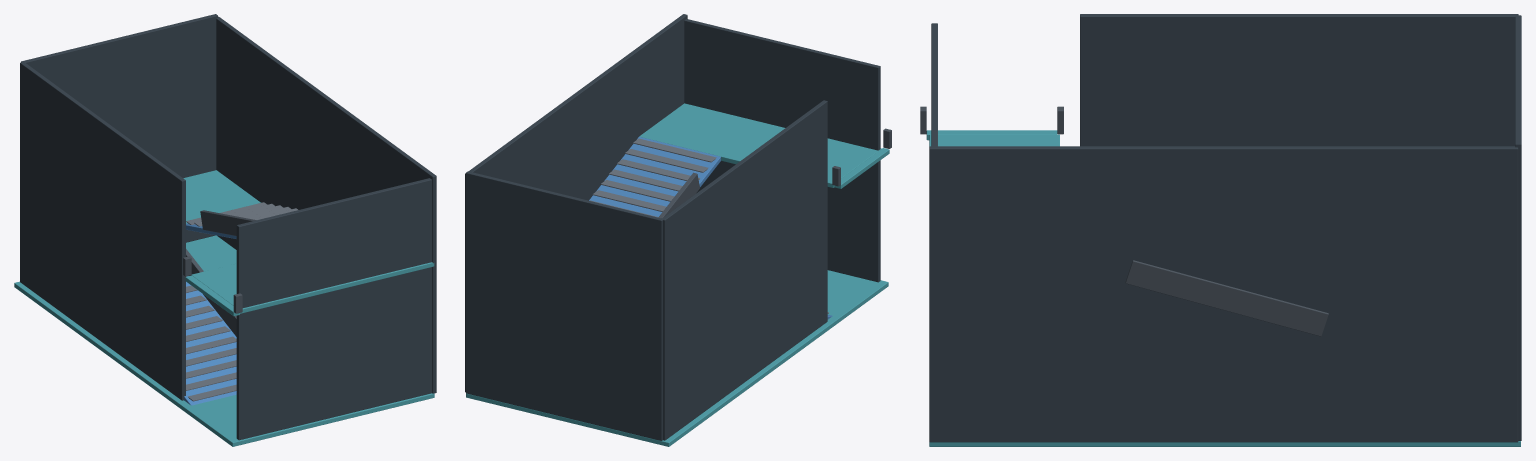
The model's file is env_tower_stairwell_rooftop_9m_top3d_v001.glb.
3 renders of one model, left to right at view 1: azimuth 30°, elevation 25°; view 2: azimuth 150°, elevation 25°; view 3: azimuth 270°, elevation 25°, orthographic. The views are drawn at different scales.
Visible parts, largest first — view 1: Stair_Special_Rooftop_EnclosureWall_DoorSide, Stair_Special_Rooftop_EnclosureWall_Inner, Stair_Special_Rooftop_EnclosureWall_Outer, Stair_Special_Rooftop_EnclosureWall_Far, Stair_Special_Rooftop_LowerDoorLanding_Walkable, Stair_Special_Rooftop_LowerFlight_Walkable, Stair_Special_Rooftop_TurnLanding_Walkable, Stair_Special_Rooftop_UpperDoorLanding_Walkable, Stair_Special_Rooftop_UpperFlight_Guard_02, Stair_Special_Rooftop_CoreConnector_Walkable, Stair_Special_Rooftop_LowerFlight_Guard_02; view 2: Stair_Special_Rooftop_EnclosureWall_Far, Stair_Special_Rooftop_EnclosureWall_Inner, Stair_Special_Rooftop_EnclosureWall_DoorSide, Stair_Special_Rooftop_EnclosureWall_Outer, Stair_Special_Rooftop_UpperDoorLanding_Walkable, Stair_Special_Rooftop_LowerDoorLanding_Walkable, Stair_Special_Rooftop_UpperFlight_Walkable, Stair_Special_Rooftop_UpperFlight_Guard_02, Stair_Special_Rooftop_UpperFlight_Tread_01, Stair_Special_Rooftop_UpperFlight_Tread_02, Stair_Special_Rooftop_CoreConnector_Walkable, Stair_Special_Rooftop_UpperFlight_Tread_03 (+3 smaller); view 3: Stair_Special_Rooftop_EnclosureWall_Outer, Stair_Special_Rooftop_EnclosureWall_Inner, Stair_Special_Rooftop_UpperFlight_Guard_01, Stair_Special_Rooftop_LowerDoorLanding_Walkable, Stair_Special_Rooftop_EnclosureWall_Far, Stair_Special_Rooftop_UpperDoorLanding_Walkable, Stair_Special_Rooftop_EnclosureWall_DoorSide, Stair_Special_Rooftop_CoreConnector_Walkable.
Part boxes in pixels (bbox=[...]): Stair_Special_Rooftop_EnclosureWall_DoorSide: bbox=[236, 178, 431, 440]; Stair_Special_Rooftop_EnclosureWall_Inner: bbox=[20, 62, 185, 400]; Stair_Special_Rooftop_EnclosureWall_Outer: bbox=[216, 17, 436, 393]; Stair_Special_Rooftop_EnclosureWall_Far: bbox=[21, 14, 218, 242]; Stair_Special_Rooftop_LowerDoorLanding_Walkable: bbox=[14, 235, 434, 446]; Stair_Special_Rooftop_LowerFlight_Walkable: bbox=[184, 276, 236, 405]; Stair_Special_Rooftop_TurnLanding_Walkable: bbox=[183, 170, 260, 223]; Stair_Special_Rooftop_UpperDoorLanding_Walkable: bbox=[191, 262, 434, 313]; Stair_Special_Rooftop_UpperFlight_Guard_02: bbox=[200, 210, 256, 235]; Stair_Special_Rooftop_CoreConnector_Walkable: bbox=[185, 275, 239, 316]; Stair_Special_Rooftop_LowerFlight_Guard_02: bbox=[186, 249, 236, 336]; Stair_Special_Rooftop_EnclosureWall_Far: bbox=[465, 171, 662, 440]; Stair_Special_Rooftop_EnclosureWall_Inner: bbox=[661, 100, 827, 440]; Stair_Special_Rooftop_EnclosureWall_DoorSide: bbox=[684, 19, 880, 282]; Stair_Special_Rooftop_EnclosureWall_Outer: bbox=[465, 14, 687, 391]; Stair_Special_Rooftop_UpperDoorLanding_Walkable: bbox=[639, 103, 881, 187]; Stair_Special_Rooftop_LowerDoorLanding_Walkable: bbox=[466, 270, 888, 446]; Stair_Special_Rooftop_UpperFlight_Walkable: bbox=[589, 136, 720, 216]; Stair_Special_Rooftop_UpperFlight_Guard_02: bbox=[658, 172, 699, 218]; Stair_Special_Rooftop_UpperFlight_Tread_01: bbox=[633, 138, 716, 162]; Stair_Special_Rooftop_UpperFlight_Tread_02: bbox=[625, 149, 708, 172]; Stair_Special_Rooftop_CoreConnector_Walkable: bbox=[834, 148, 889, 188]; Stair_Special_Rooftop_UpperFlight_Tread_03: bbox=[617, 159, 700, 180]; Stair_Special_Rooftop_EnclosureWall_Outer: bbox=[929, 146, 1518, 442]; Stair_Special_Rooftop_EnclosureWall_Inner: bbox=[1080, 14, 1518, 146]; Stair_Special_Rooftop_UpperFlight_Guard_01: bbox=[1125, 260, 1328, 336]; Stair_Special_Rooftop_LowerDoorLanding_Walkable: bbox=[929, 441, 1520, 446]; Stair_Special_Rooftop_EnclosureWall_Far: bbox=[1515, 15, 1521, 440]; Stair_Special_Rooftop_UpperDoorLanding_Walkable: bbox=[929, 134, 1059, 146]; Stair_Special_Rooftop_EnclosureWall_DoorSide: bbox=[931, 23, 937, 146]; Stair_Special_Rooftop_CoreConnector_Walkable: bbox=[926, 130, 1057, 140].
Bounding box in the file's own units: 14.75 × 15.36 × 27.62.
